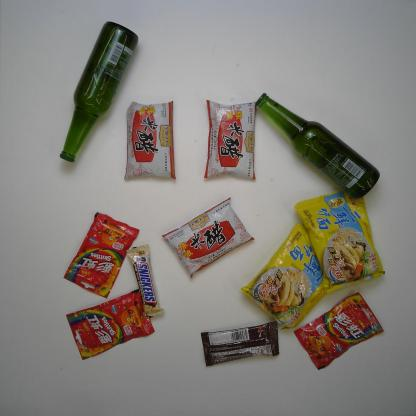Alcohol: (254, 91, 382, 200), (59, 20, 139, 164)
Candy: (293, 290, 386, 371), (64, 286, 156, 361), (62, 211, 140, 299)
Chocolate: (200, 321, 280, 366), (126, 242, 165, 318)
Instant Noodles: (240, 221, 330, 332), (293, 189, 387, 295)
Seasoner: (161, 196, 256, 281), (204, 99, 258, 181), (123, 101, 177, 180)
